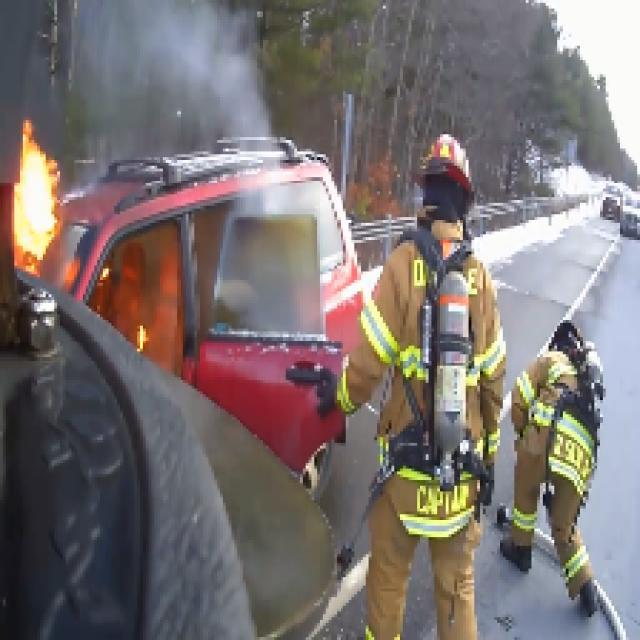Fire: (94, 225, 240, 426), (6, 117, 100, 306)
Smoke: (51, 0, 363, 237)
